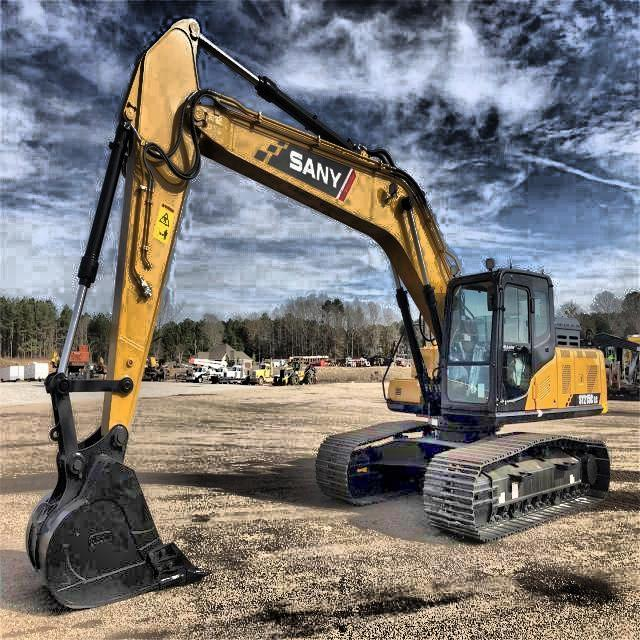excavator: (20, 12, 618, 612)
